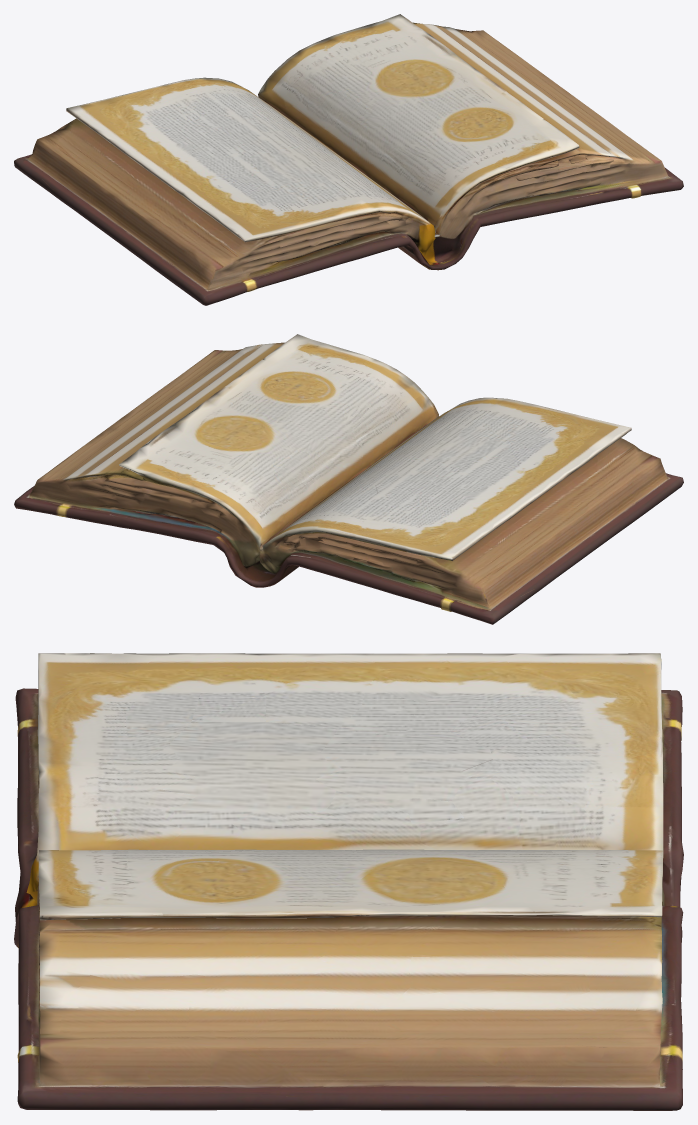
The model's file is books.glb.
3 views of the same model, one above another, from view 1: azimuth 30°, elevation 25°; view 2: azimuth 150°, elevation 25°; view 3: azimuth 270°, elevation 25° (orthographic). The views are drawn at different scales.
Bounding box in the file's own units: 2 × 0.3479 × 1.38.
1 material, 1 textured.
